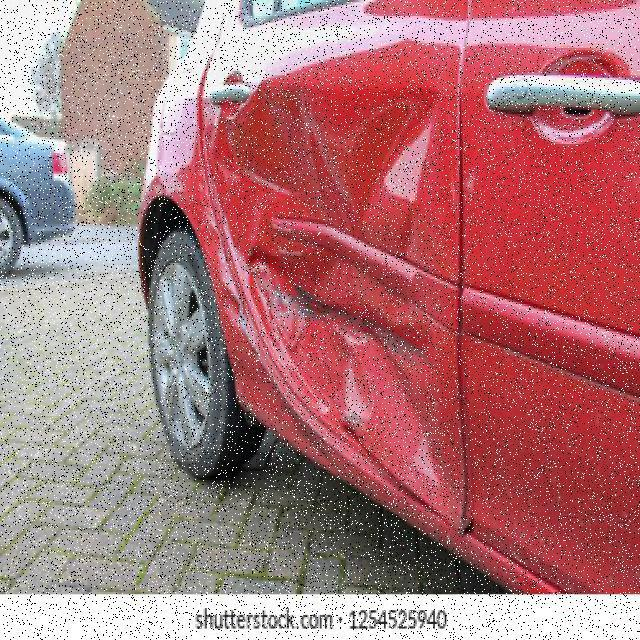doorouter-dent: (218, 2, 464, 400)
